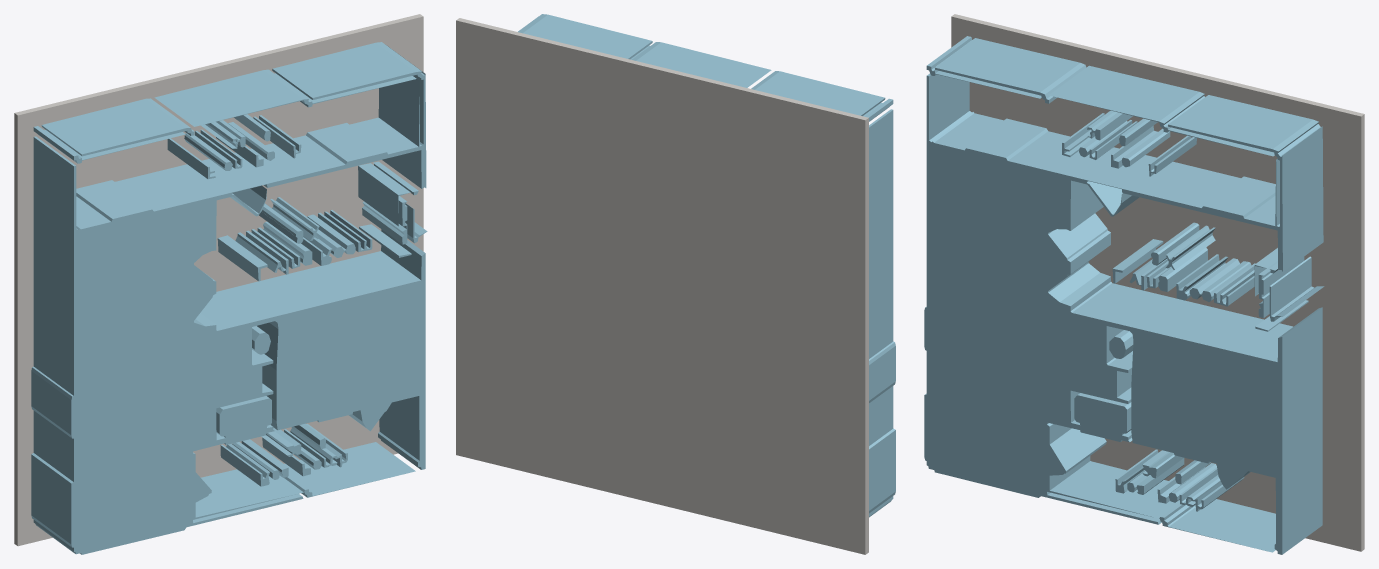
3 views of the same model, side by side, from view 1: azimuth 30°, elevation 25°; view 2: azimuth 150°, elevation 25°; view 3: azimuth 330°, elevation 25° (orthographic).
Visible parts, largest first — view 1: world; view 2: world; view 3: world.
Part boxes in pixels (x1=…): world: x1=14, y1=14, x2=427, y2=554; world: x1=456, y1=14, x2=895, y2=554; world: x1=924, y1=14, x2=1364, y2=554.
Bounding box in the file's own units: 10.23 × 10.38 × 1.9.
